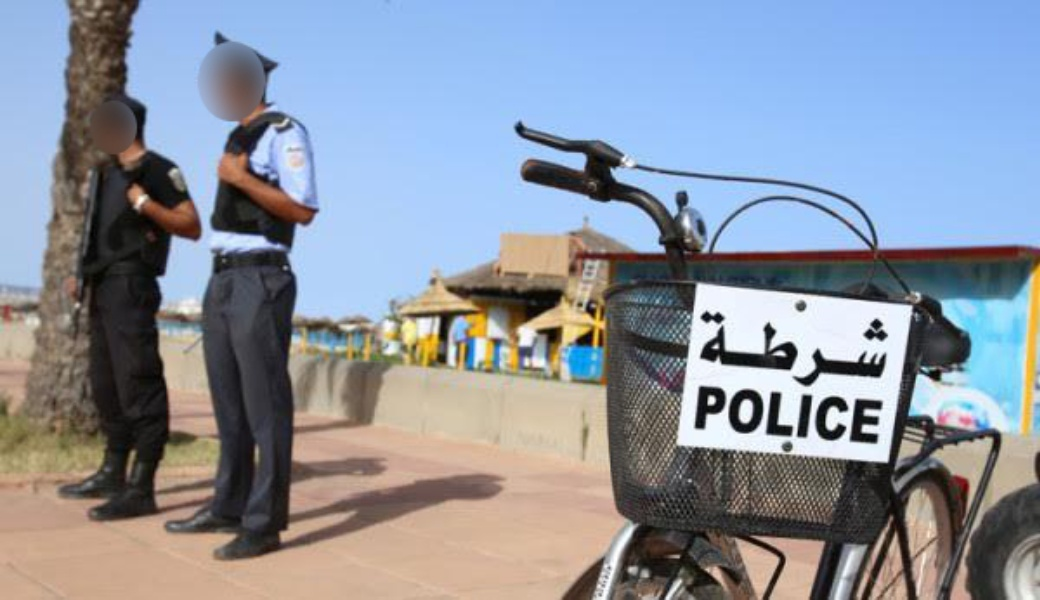text: (705, 307, 720, 398), (721, 307, 736, 398), (737, 307, 752, 398), (753, 307, 768, 398), (769, 307, 784, 398), (785, 307, 800, 398), (801, 307, 816, 398), (817, 307, 832, 398), (833, 307, 848, 398), (849, 307, 864, 398), (865, 307, 880, 398), (881, 307, 896, 398), (705, 380, 720, 446), (721, 380, 736, 446), (737, 380, 752, 446), (753, 380, 768, 446), (769, 380, 784, 446), (785, 380, 800, 446), (801, 380, 816, 446), (817, 380, 832, 446), (833, 380, 848, 446), (849, 380, 864, 446), (865, 380, 880, 446), (692, 380, 704, 446), (881, 380, 886, 446), (701, 307, 704, 398), (897, 307, 898, 398)
